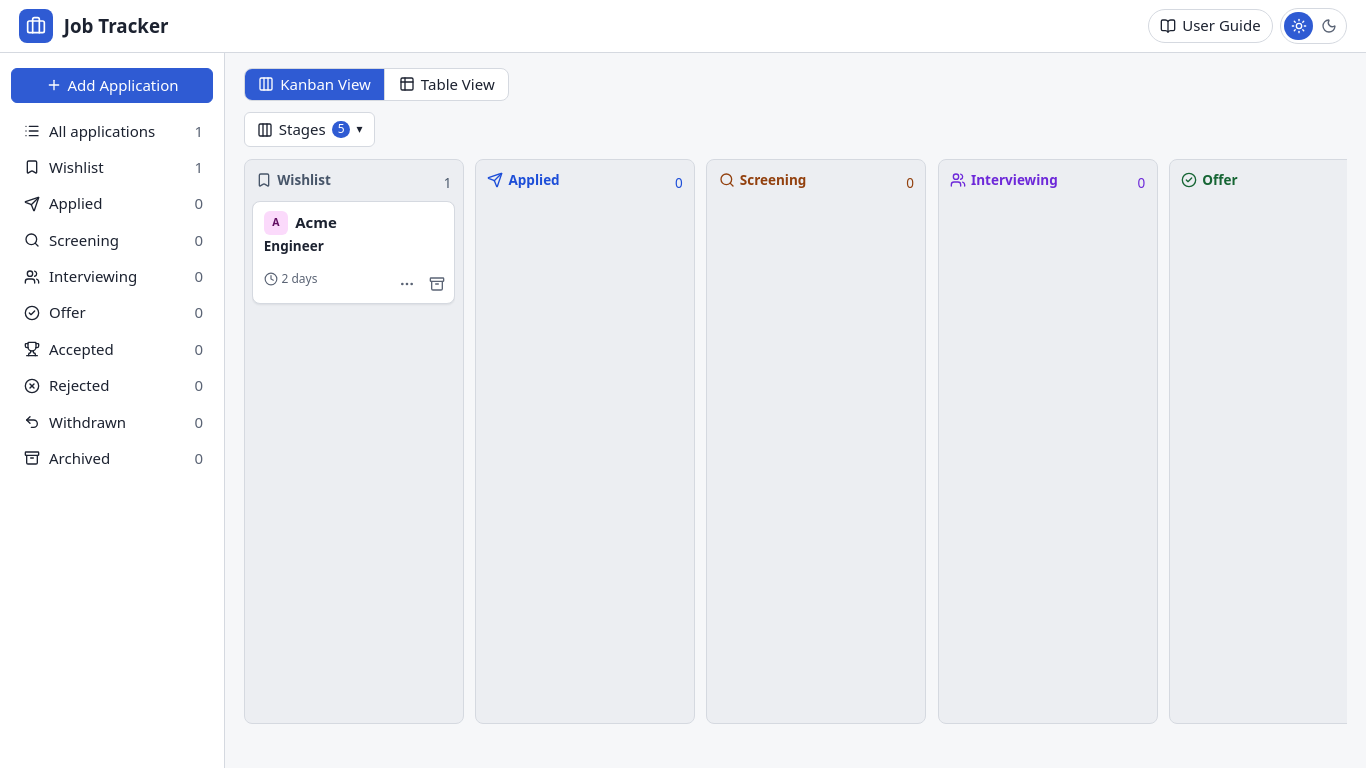
it: moving a card from its menu (spec 018) › takes the card off the board and says where it went when the stage is hidden (AC-9)
The image size is (1366, 768).
Click the button named "Move: Engineer at Acme".
click(406, 284)  # box [392,270,422,300]
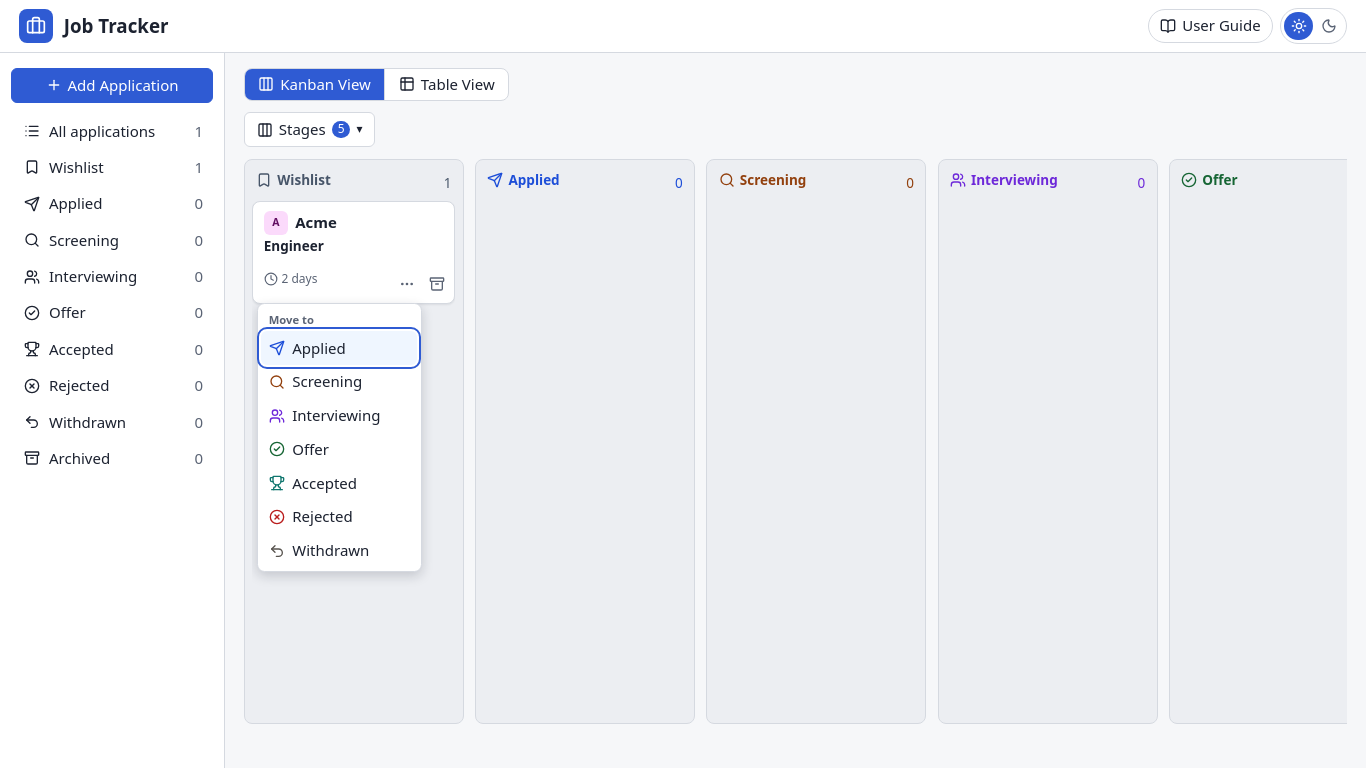
Click the menu item "Rejected".
click(339, 517)  # box [261,500,417,534]
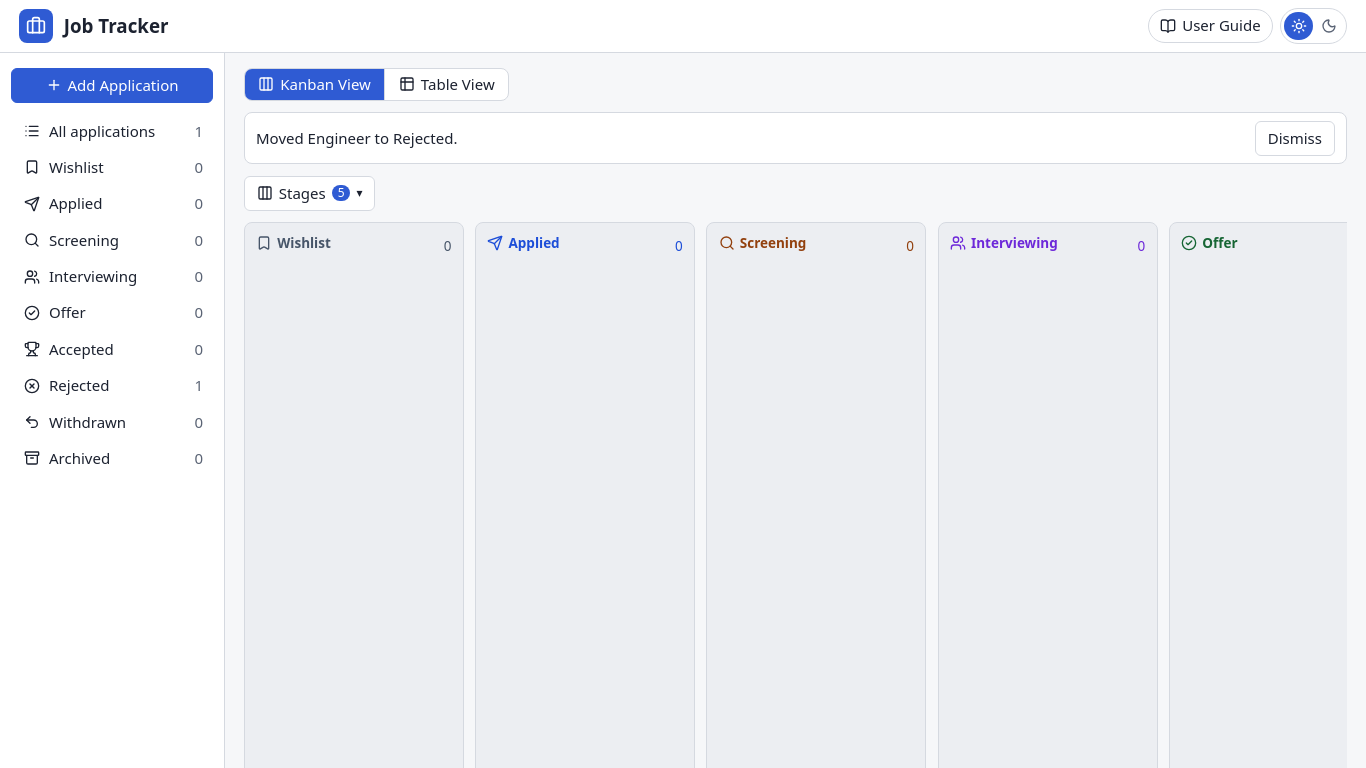
Now the message shows "Moved Engineer to Rejected.", box [256,128,457,148]
Click the button "Dismiss".
click(1295, 138)  # box [1255,121,1335,156]
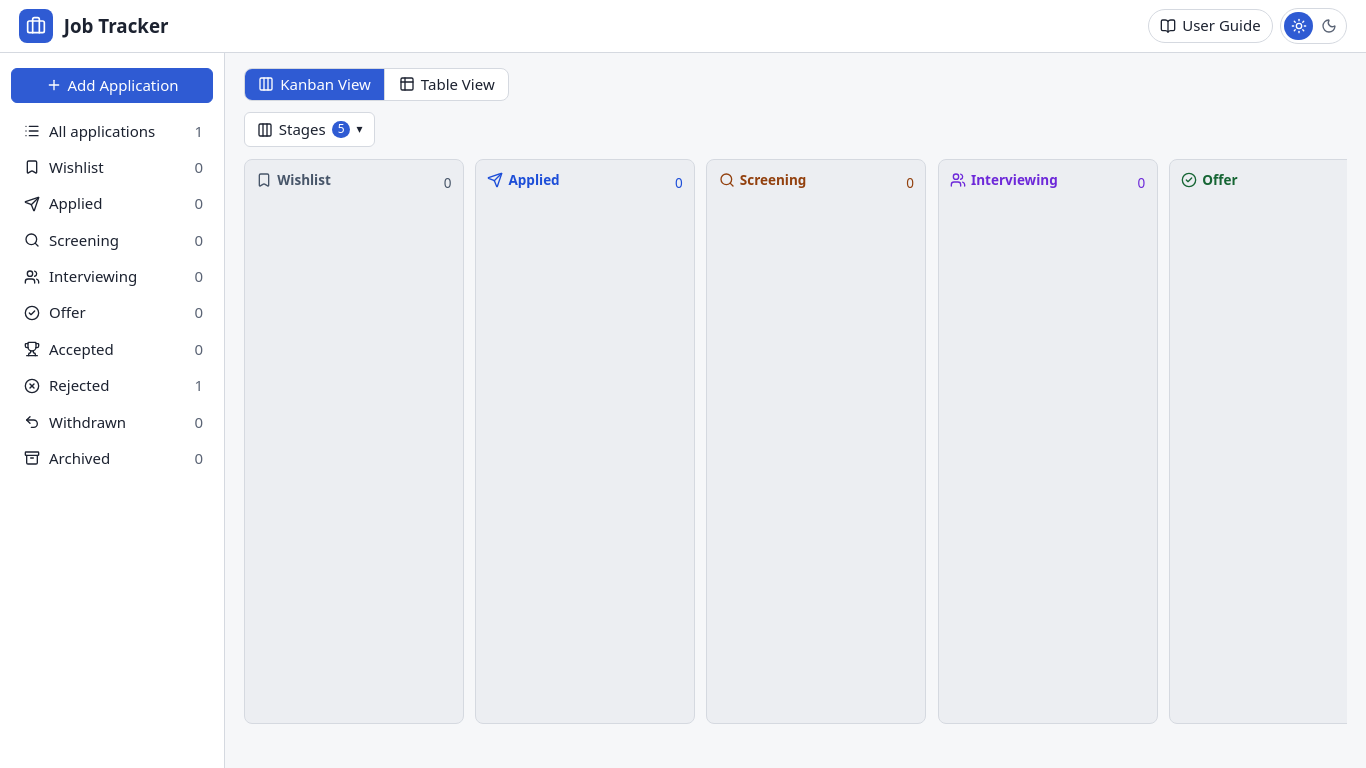
Now the message "Moved Engineer to Rejected. Dismiss" is gone
